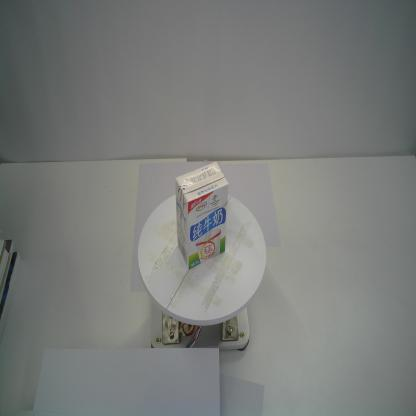Milk: (175, 161, 229, 270)
